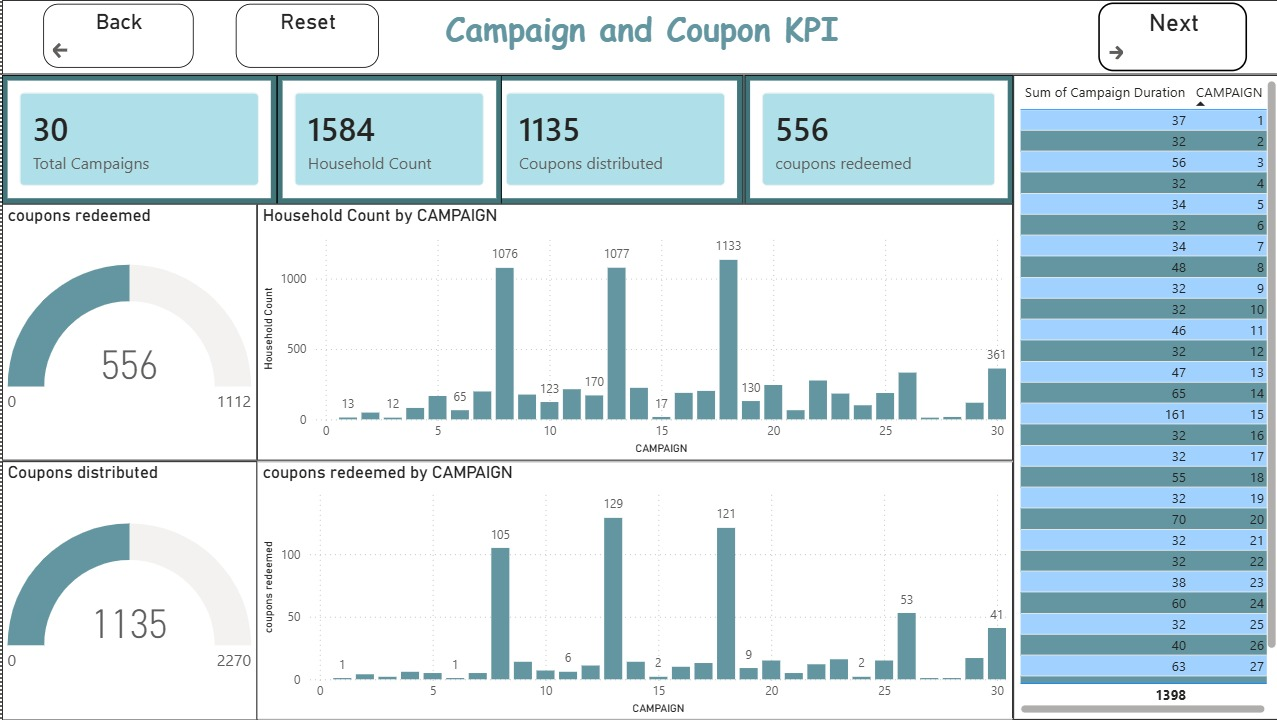

The page's visual inventory and layout, read from the dashboard file:
{"tool":"powerbi","page":{"name":"Coupon & Campaign KPI","canvas":[1280,720],"ordinal":2},"visuals":[{"type":"cardVisual","fields":{"Data":["KPI.Coupons distributed"]},"box":[486.7,74.6,255.6,129.6],"z":0},{"type":"cardVisual","fields":{"Data":["KPI.coupons redeemed"]},"box":[742.3,74.6,269,129.6],"z":1000},{"type":"cardVisual","fields":{"Data":["coupon.Total Campaigns"]},"box":[0,74.6,275.1,129.6],"z":2000},{"type":"cardVisual","fields":{"Data":["hh_demographic.Household Count"]},"box":[275.1,74.6,225,129.6],"z":3000},{"type":"clusteredColumnChart","fields":{"Y":["KPI.coupons redeemed"],"Category":["coupon.CAMPAIGN"]},"box":[255.6,461,755.7,259.2],"z":4000},{"type":"clusteredColumnChart","fields":{"Y":["hh_demographic.Household Count"],"Category":["campaign_desc.CAMPAIGN"]},"box":[255.6,204.2,755.7,256.8],"z":5000},{"type":"gauge","fields":{"Y":["KPI.coupons redeemed"]},"box":[0,204.2,255.6,256.8],"z":6000},{"type":"gauge","fields":{"Y":["KPI.Coupons distributed"]},"box":[0,461,255.6,259.2],"z":7000},{"type":"tableEx","fields":{"Values":["Sum(campaign_desc.Campaign Duration)","campaign_desc.CAMPAIGN"]},"box":[1011.3,74.6,269,644.4],"z":8000},{"type":"textbox","box":[0,0,1280.3,74.6],"z":9000},{"type":"actionButton","title":"Next","box":[1095.7,2.9,148.6,68.6],"z":10000},{"type":"actionButton","title":"Back","box":[41.4,4.3,150,64.3],"z":11000},{"type":"actionButton","title":"Reset","box":[233.7,4.2,143.3,64],"z":11001}]}

Visuals, with their boxes in screenshot pixels (x1, y1, x2, y2), scaled from the page's 1280x720 canvas onto the 1277x720 screenshot:
cardVisual - KPI.Coupons distributed: {"x1": 486, "y1": 75, "x2": 741, "y2": 204}
cardVisual - KPI.coupons redeemed: {"x1": 741, "y1": 75, "x2": 1009, "y2": 204}
cardVisual - coupon.Total Campaigns: {"x1": 0, "y1": 75, "x2": 274, "y2": 204}
cardVisual - hh_demographic.Household Count: {"x1": 274, "y1": 75, "x2": 499, "y2": 204}
clusteredColumnChart - KPI.coupons redeemed x coupon.CAMPAIGN: {"x1": 255, "y1": 461, "x2": 1009, "y2": 719}
clusteredColumnChart - hh_demographic.Household Count x campaign_desc.CAMPAIGN: {"x1": 255, "y1": 204, "x2": 1009, "y2": 461}
gauge - KPI.coupons redeemed: {"x1": 0, "y1": 204, "x2": 255, "y2": 461}
gauge - KPI.Coupons distributed: {"x1": 0, "y1": 461, "x2": 255, "y2": 719}
tableEx - Sum(campaign_desc.Campaign Duration) x campaign_desc.CAMPAIGN: {"x1": 1009, "y1": 75, "x2": 1276, "y2": 719}
textbox: {"x1": 0, "y1": 0, "x2": 1276, "y2": 75}
"Next" actionButton: {"x1": 1093, "y1": 3, "x2": 1241, "y2": 72}
"Back" actionButton: {"x1": 41, "y1": 4, "x2": 191, "y2": 69}
"Reset" actionButton: {"x1": 233, "y1": 4, "x2": 376, "y2": 68}
